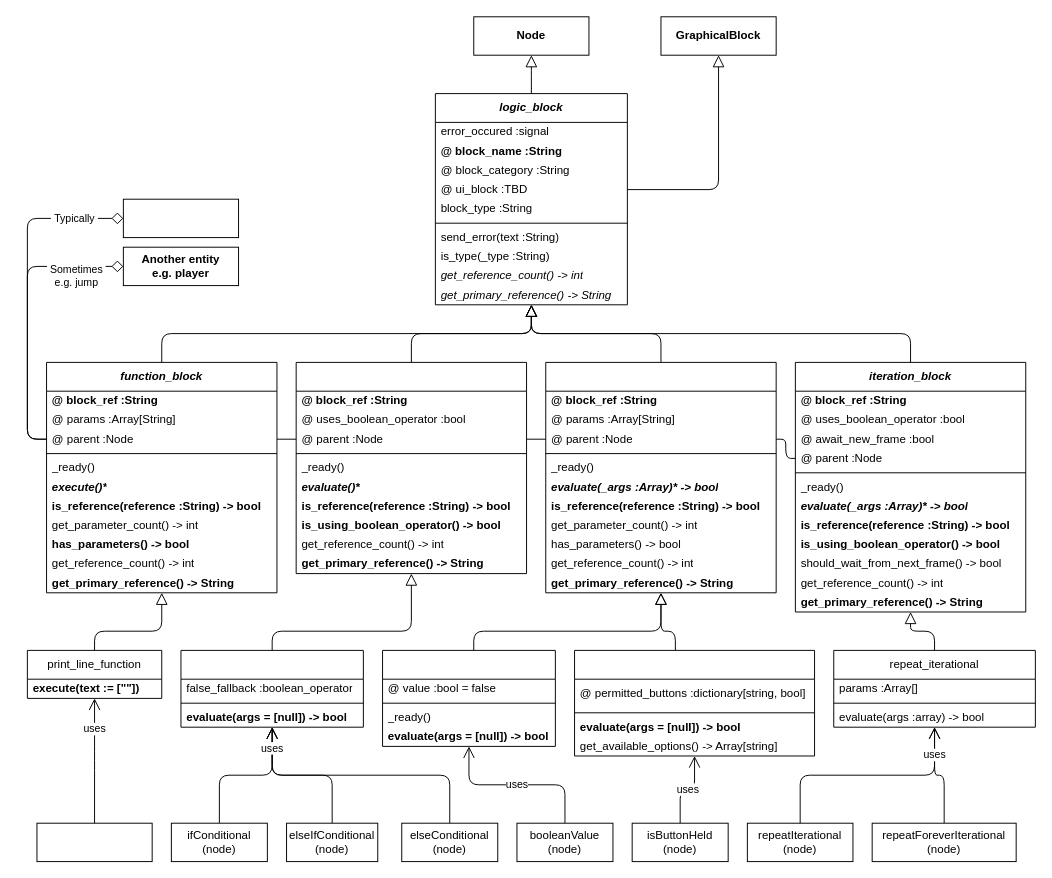
Image size: 1052x878. Some labels were removed from this diagram. The shapes that lost their labels are listed below. From the top down, each one's box as (x1, y1, x2, y2) in pixels, then its label:
(122, 198, 239, 238): CodeManager
(295, 361, 527, 574): conditional_block
(545, 361, 776, 593): boolean_operator
(180, 649, 363, 727): if_conditional
(382, 649, 555, 746): boolean_value
(574, 649, 815, 756): is_button_held_operator
(36, 822, 152, 862): printLineFunction (node)
